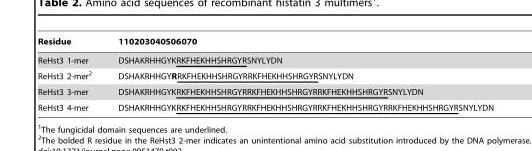table: (36, 36, 493, 111)
table column: (104, 36, 493, 111), (36, 36, 104, 111)
table column header: (36, 36, 493, 50)
table row: (36, 50, 493, 67), (36, 67, 493, 83), (36, 83, 493, 99), (36, 36, 493, 50), (36, 99, 493, 111)
